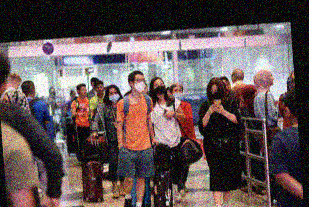with_mask: (132, 76, 146, 93), (152, 81, 165, 96), (107, 89, 120, 103), (209, 87, 222, 100), (171, 87, 183, 100), (48, 88, 54, 96)
without_mask: (94, 83, 104, 94), (78, 86, 86, 97), (269, 71, 274, 86), (140, 83, 146, 94), (165, 89, 172, 98)
